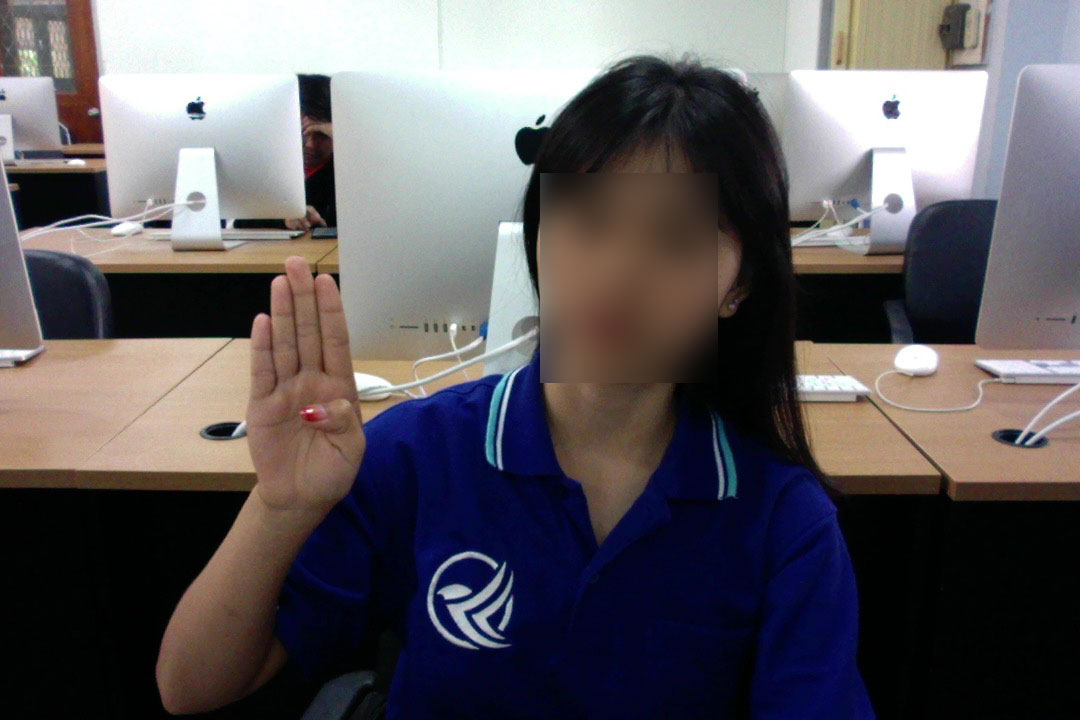bor: (220, 248, 380, 526)
